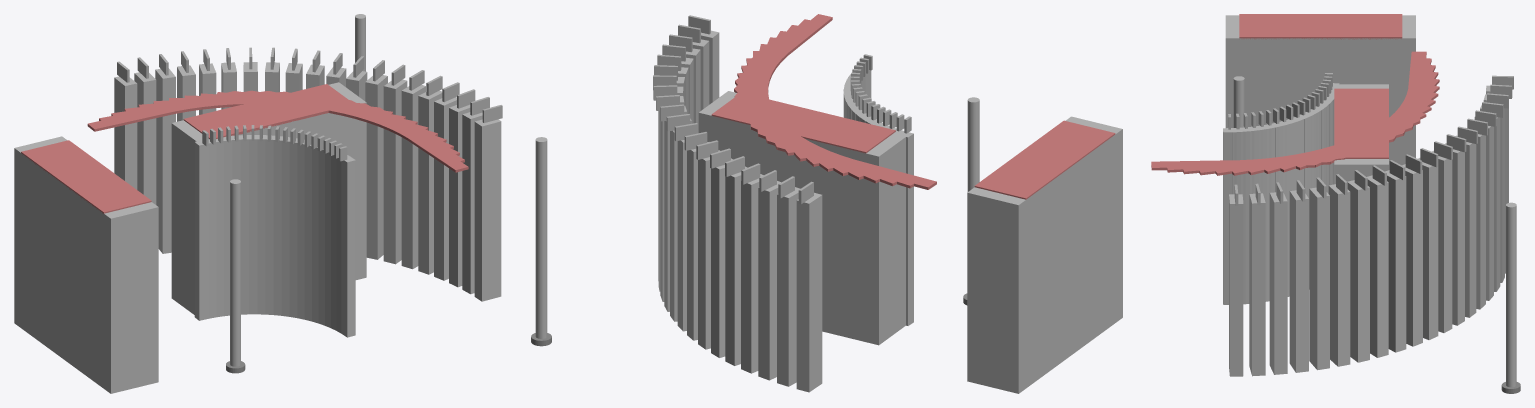
The model's file is conveyor-curve-90degree-600.glb.
3 views of the same model, side by side, from view 1: azimuth 30°, elevation 25°; view 2: azimuth 150°, elevation 25°; view 3: azimuth 270°, elevation 25° (orthographic). The views are drawn at different scales.
Visible parts, largest first — view 1: entry_frame, exit_frame, outer_frame_0, entry_belt, exit_belt, outer_frame_6, outer_frame_7, outer_frame_5, outer_frame_17, inner_frame_0, inner_frame_19, outer_frame_4 (+39 smaller); view 2: entry_frame, exit_frame, outer_frame_19, entry_belt, outer_frame_18, exit_belt, outer_frame_17, outer_frame_16, outer_frame_15, outer_frame_14, leg_3, outer_frame_13 (+20 smaller); view 3: entry_frame, entry_belt, outer_frame_5, outer_frame_4, outer_frame_6, outer_frame_3, outer_frame_2, outer_frame_7, outer_frame_8, exit_belt, outer_frame_1, outer_frame_9 (+41 smaller).
Part boxes in pixels (x1,y1,x2,y2): entry_frame: [14, 136, 158, 393]; exit_frame: [171, 82, 366, 314]; outer_frame_0: [474, 119, 501, 301]; entry_belt: [21, 140, 151, 213]; exit_belt: [183, 84, 348, 139]; outer_frame_6: [383, 79, 407, 264]; outer_frame_7: [365, 75, 387, 259]; outer_frame_5: [401, 85, 425, 269]; outer_frame_17: [155, 68, 175, 253]; inner_frame_0: [341, 156, 355, 337]; inner_frame_19: [194, 140, 209, 320]; outer_frame_4: [418, 90, 442, 274]; entry_frame: [967, 116, 1122, 393]; exit_frame: [698, 91, 905, 345]; outer_frame_19: [796, 192, 822, 392]; entry_belt: [974, 120, 1115, 199]; outer_frame_18: [777, 187, 800, 386]; exit_belt: [711, 92, 895, 153]; outer_frame_17: [758, 181, 780, 380]; outer_frame_16: [741, 174, 763, 373]; outer_frame_15: [725, 166, 747, 365]; outer_frame_14: [711, 158, 732, 357]; leg_3: [535, 137, 547, 338]; outer_frame_13: [698, 150, 719, 349]; entry_frame: [1225, 15, 1415, 169]; entry_belt: [1239, 14, 1402, 39]; outer_frame_5: [1328, 184, 1350, 366]; outer_frame_4: [1309, 187, 1329, 370]; outer_frame_6: [1347, 180, 1369, 362]; outer_frame_3: [1289, 190, 1308, 372]; outer_frame_2: [1269, 192, 1287, 374]; outer_frame_7: [1367, 175, 1388, 357]; outer_frame_8: [1385, 170, 1406, 352]; exit_belt: [1334, 88, 1388, 158]; outer_frame_1: [1249, 193, 1265, 376]; outer_frame_9: [1402, 164, 1422, 346].
Bounding box in the file's own units: 1685 × 800 × 1358.
